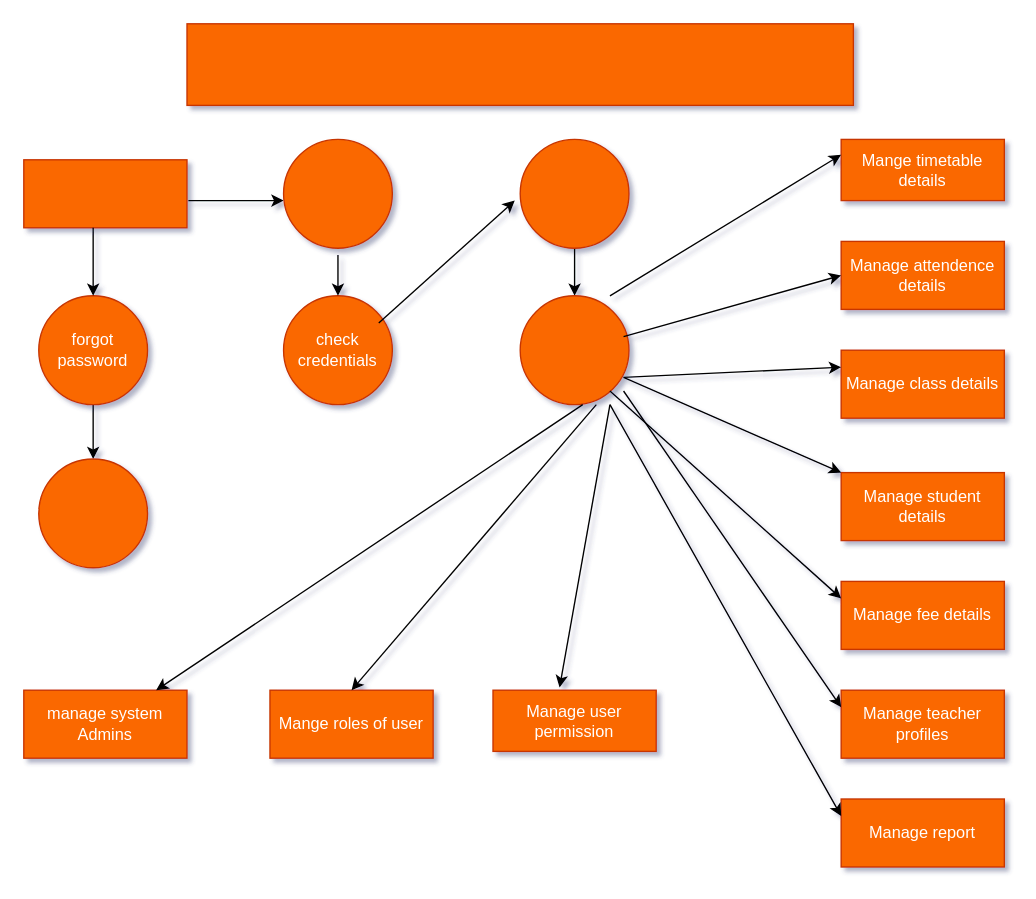
This 1036x899 diagram has some shape labels left out. Each missing label, with the centre of its shape:
"Admin" goes at pixel 104 193.
"check roles of Access" goes at pixel 574 193.
"Login to system" goes at pixel 337 193.
"Manage modules" goes at pixel 574 349.
"Send email to user" goes at pixel 92 513.
"Student Information system" goes at pixel 519 63.
